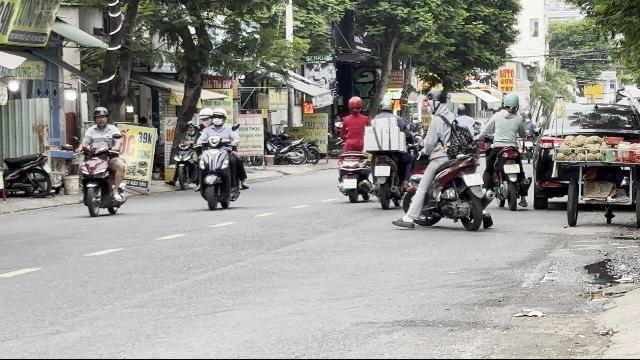helmet: (426, 88, 448, 112), (501, 92, 519, 112), (92, 106, 110, 126), (211, 106, 227, 126), (347, 96, 363, 114), (198, 106, 212, 126), (378, 98, 394, 112)
licenseplate: (463, 174, 483, 186), (504, 164, 520, 174), (374, 165, 390, 175), (343, 179, 357, 188)
motorcyclist: (406, 86, 489, 230), (481, 90, 531, 210), (75, 106, 128, 216), (193, 106, 249, 210), (364, 95, 414, 207), (334, 96, 374, 204)
